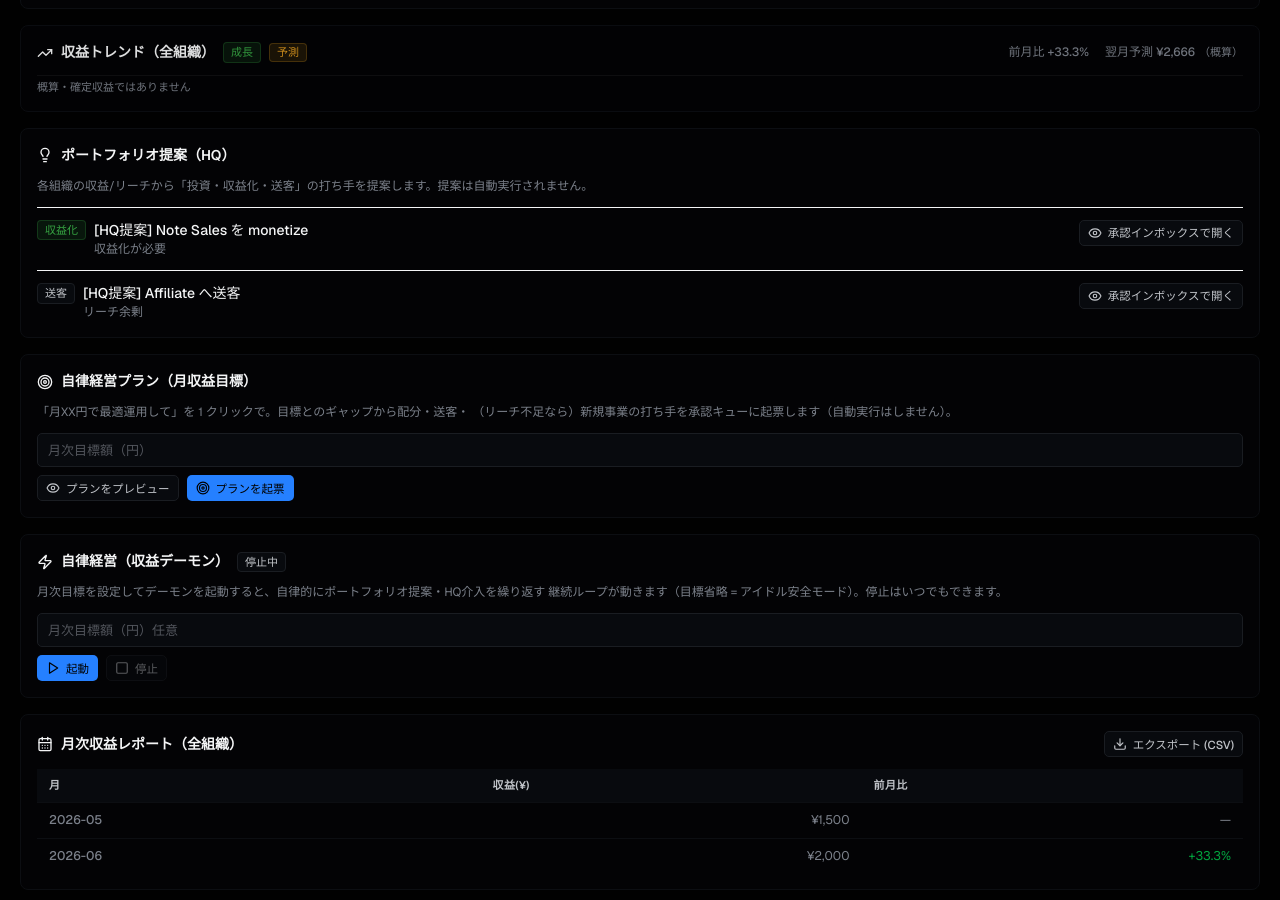
Test case: 自律経営プラン: 「プランをプレビュー」は起票せず GET プレビューを呼び、ギャップと打ち手を表示する
(page scrolled)
Expected: the text "自律経営プラン（月収益目標）" is shown, left=61, top=371, right=257, bottom=392
In the number field with placeholder "月次目標額（円）": (640, 450) left=37, top=433, right=1243, bottom=467, type "100000"
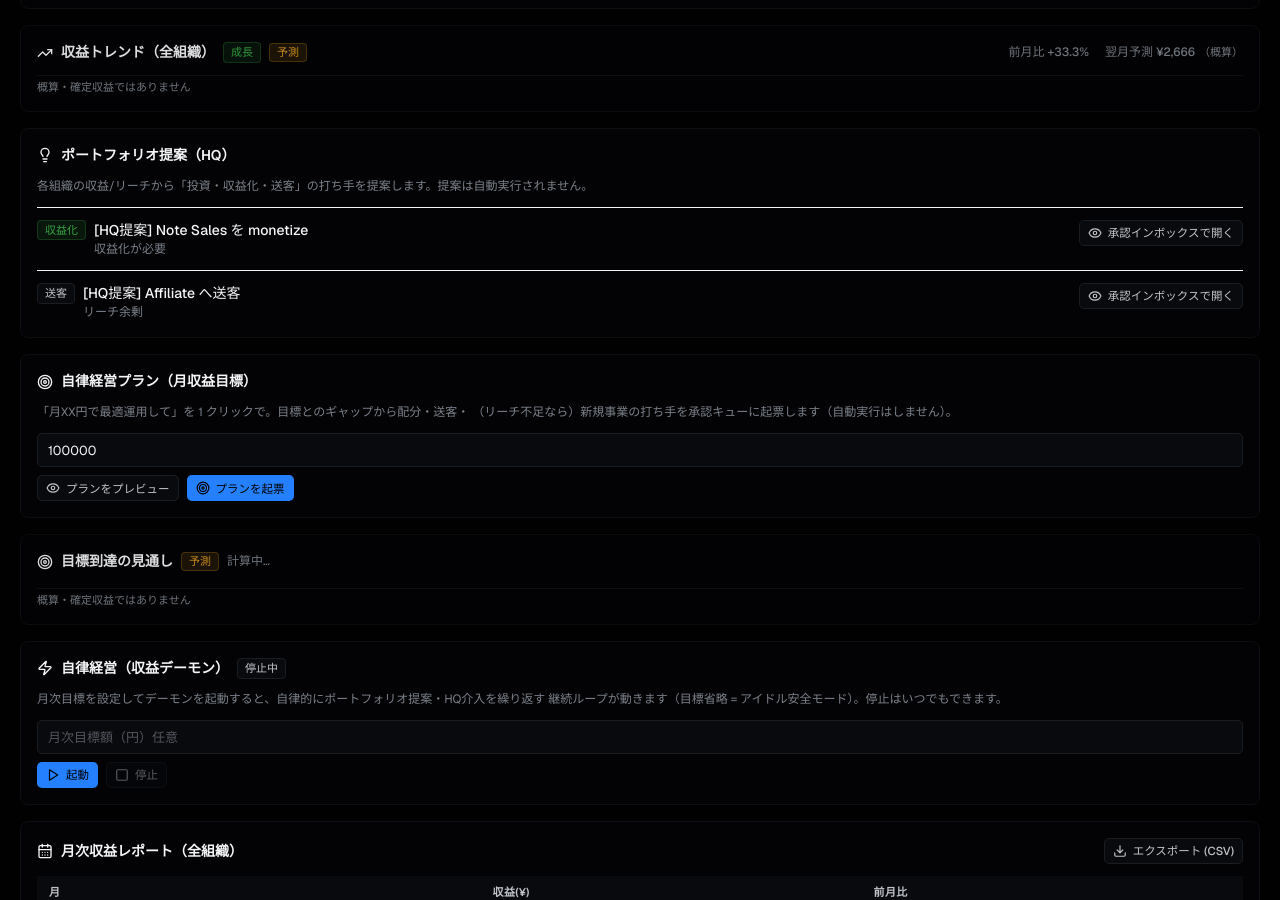
Click the button "プランをプレビュー": (108, 488) left=37, top=475, right=178, bottom=501
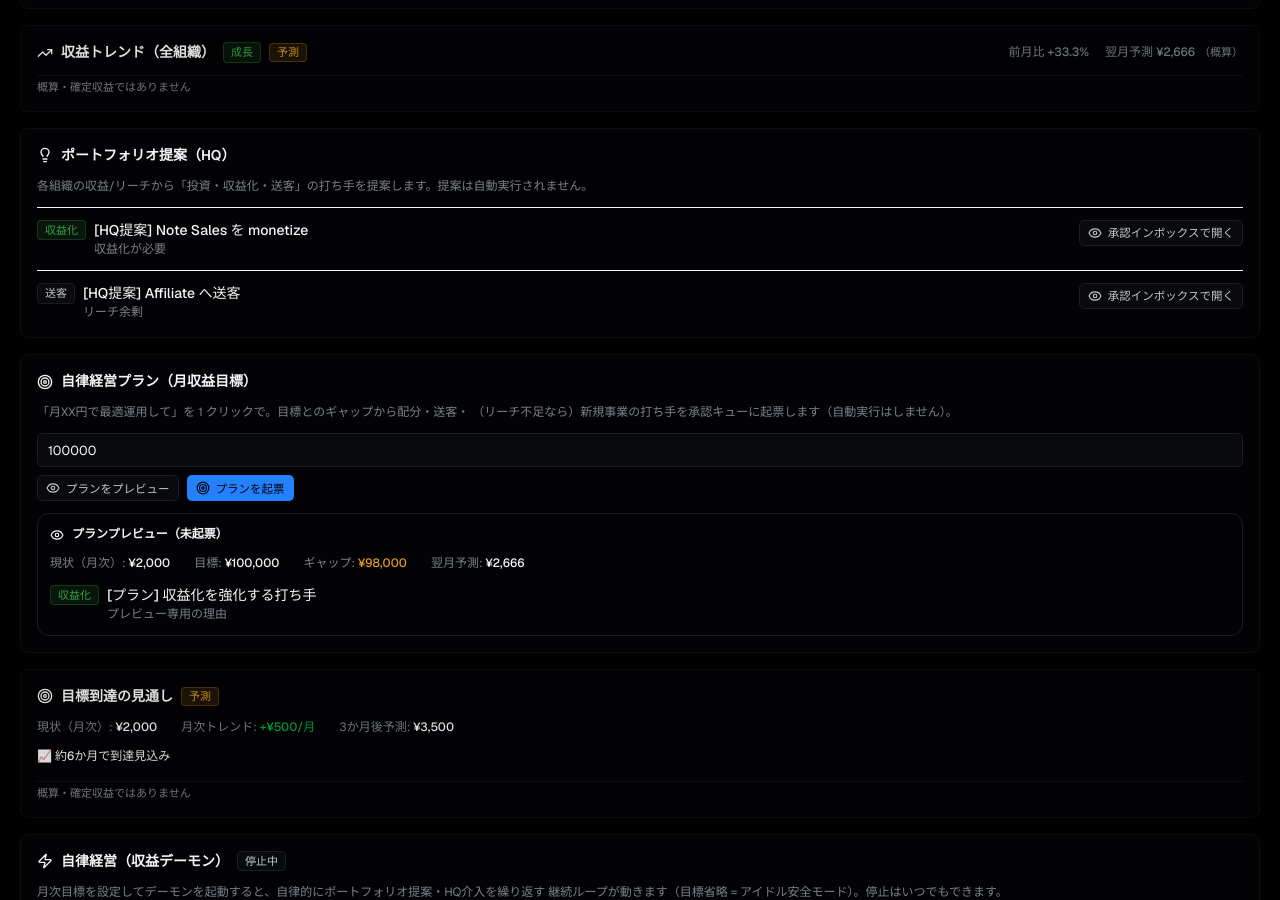
Expected: the text "プランプレビュー（未起票）" is shown, left=50, top=526, right=228, bottom=542
Expected: the text "¥98,000" is shown, left=358, top=556, right=407, bottom=572
Expected: the text "[プラン] 収益化を強化する打ち手" is shown, left=107, top=585, right=316, bottom=606
